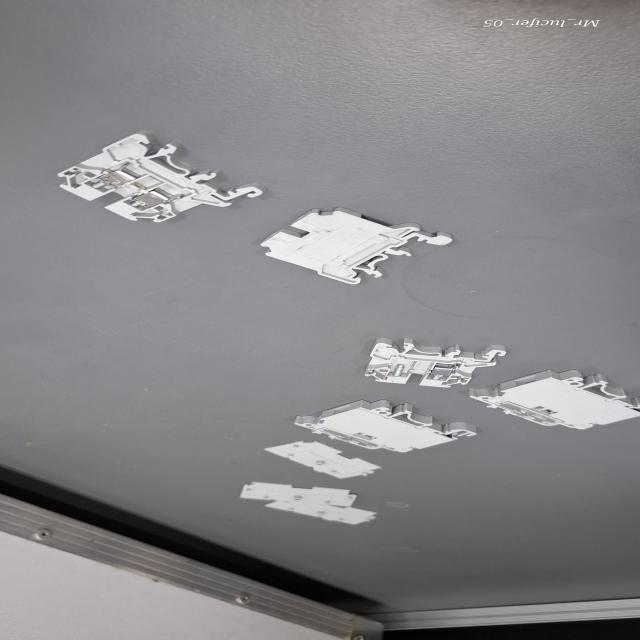Inverted: (249, 200, 466, 306)
Pass: (46, 130, 266, 234)
Reject: (356, 329, 494, 397)
